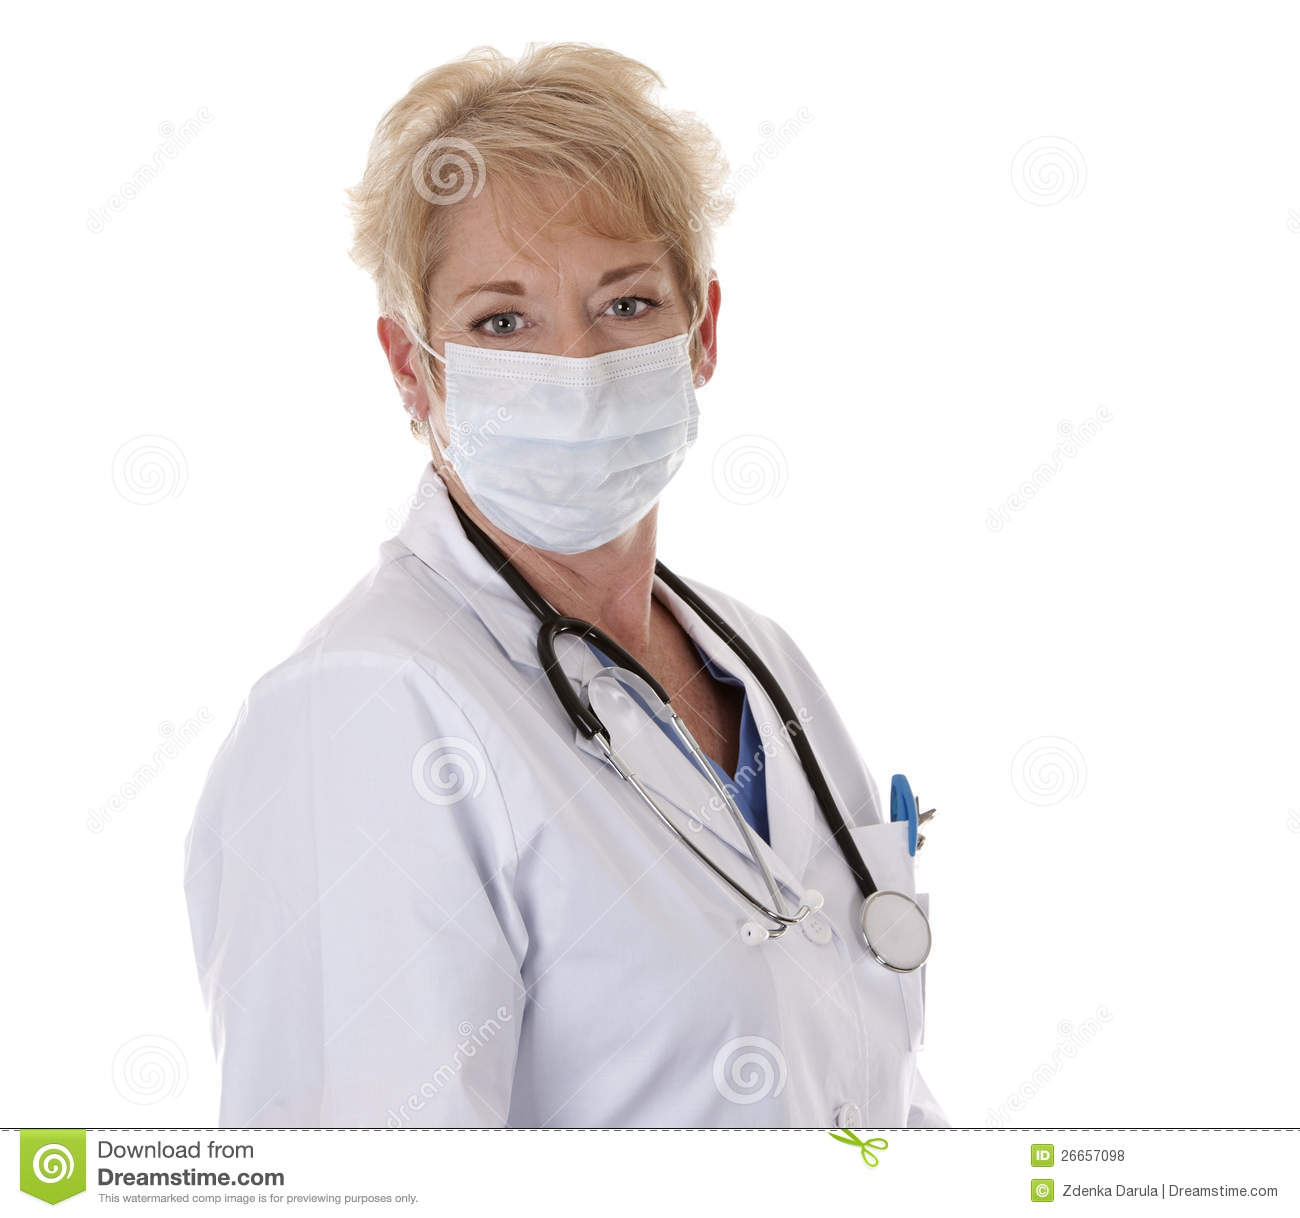mask: (433, 347, 708, 564)
